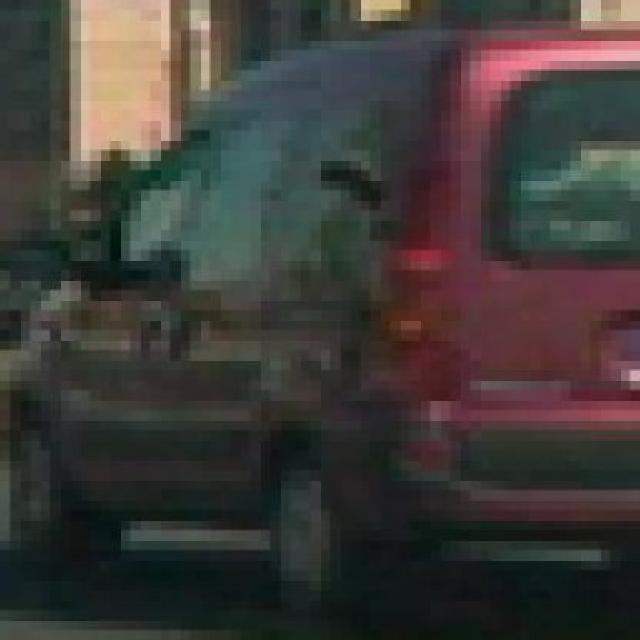vehicle: (0, 11, 630, 591)
